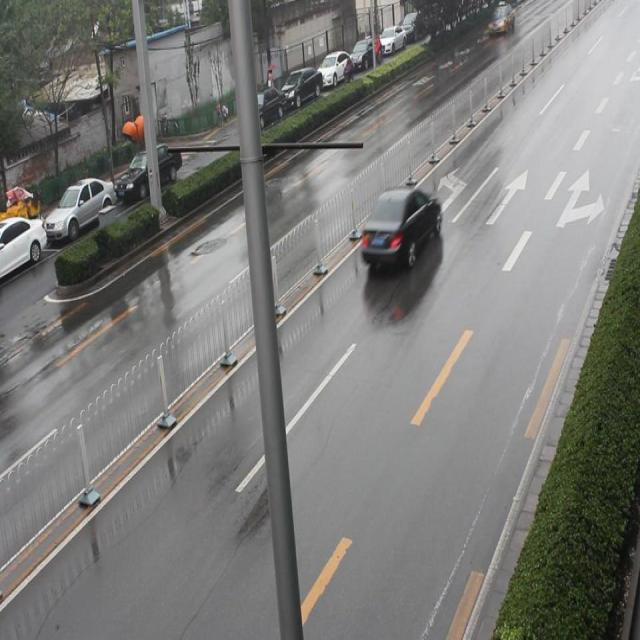car: (359, 170, 441, 285)
